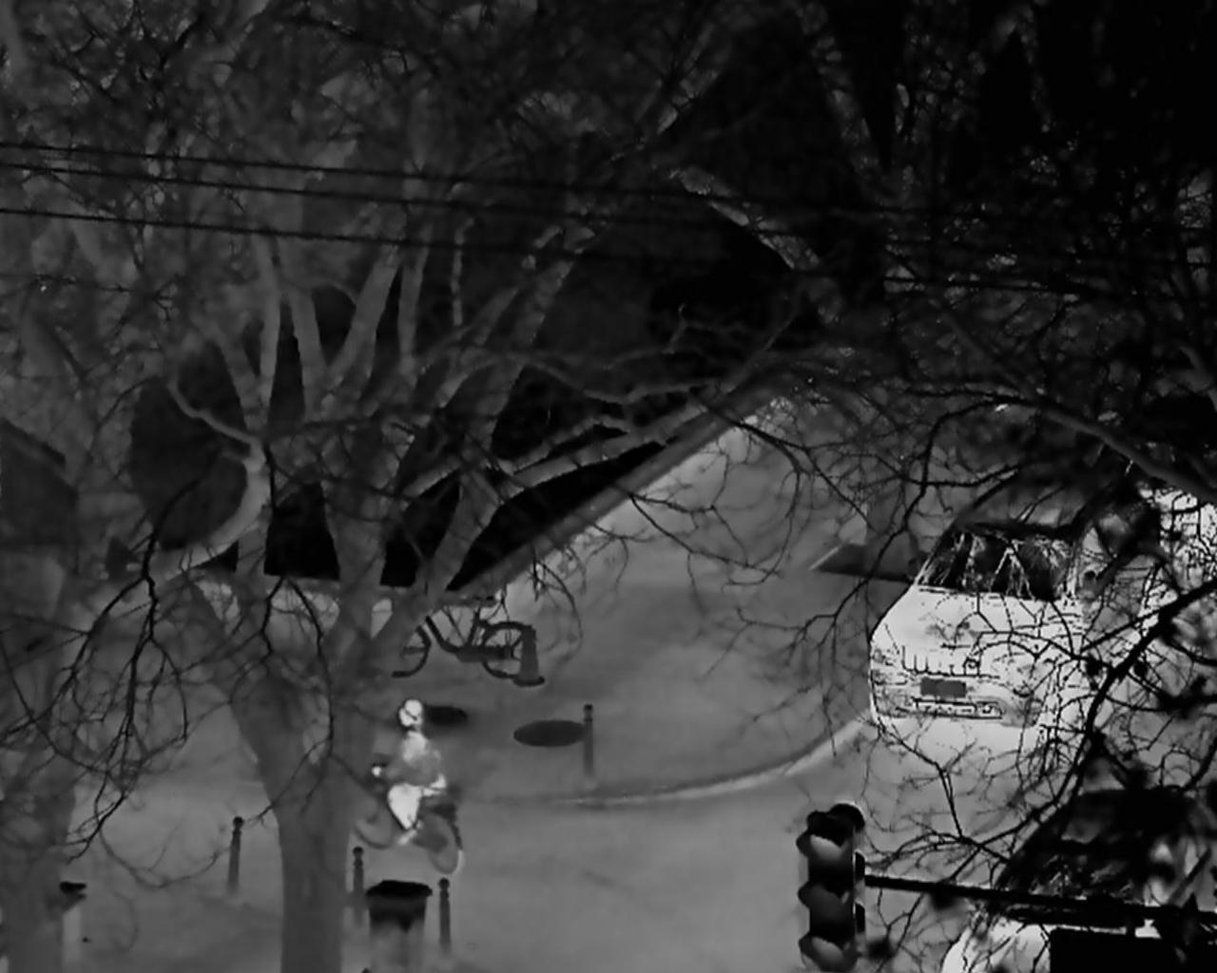person: (371, 698, 447, 847)
